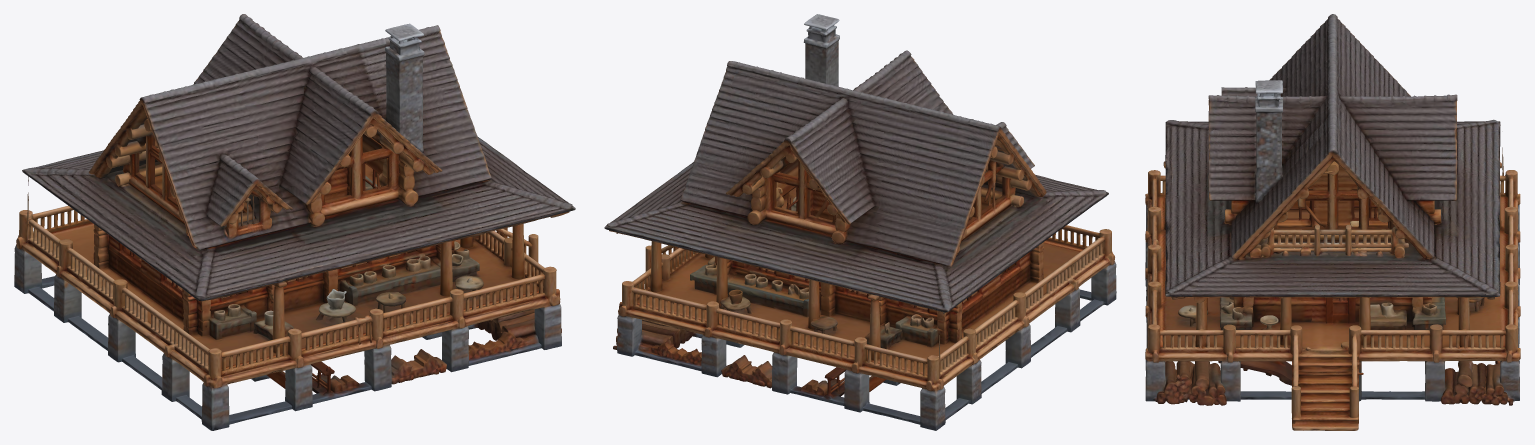
File: house7.glb
3 views of the same model, side by side, from view 1: azimuth 30°, elevation 25°; view 2: azimuth 150°, elevation 25°; view 3: azimuth 270°, elevation 25° (orthographic). The views are drawn at different scales.
Parts seen in each view (by area): view 1: tripo_node_1e5ad995-b19f-4247-b3b0-bbe4b989c9ac_0; view 2: tripo_node_1e5ad995-b19f-4247-b3b0-bbe4b989c9ac_0; view 3: tripo_node_1e5ad995-b19f-4247-b3b0-bbe4b989c9ac_0.
Boxes of the visible parts, x1,y1,x2,y2 form: tripo_node_1e5ad995-b19f-4247-b3b0-bbe4b989c9ac_0: (14,14,575,430); tripo_node_1e5ad995-b19f-4247-b3b0-bbe4b989c9ac_0: (604,14,1116,430); tripo_node_1e5ad995-b19f-4247-b3b0-bbe4b989c9ac_0: (1145,14,1520,430).
Size of the model in its own units: 1 by 0.6665 by 0.8261.
Materials: 1 (1 with a texture image).
